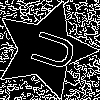U: (20, 24, 78, 74)
